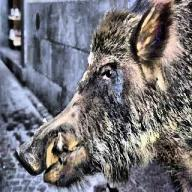boar: (15, 0, 191, 191)
